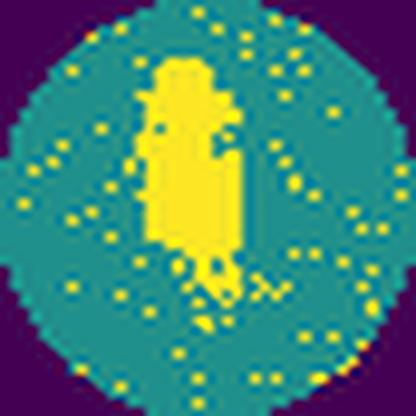Loc: (133, 54, 245, 310)
